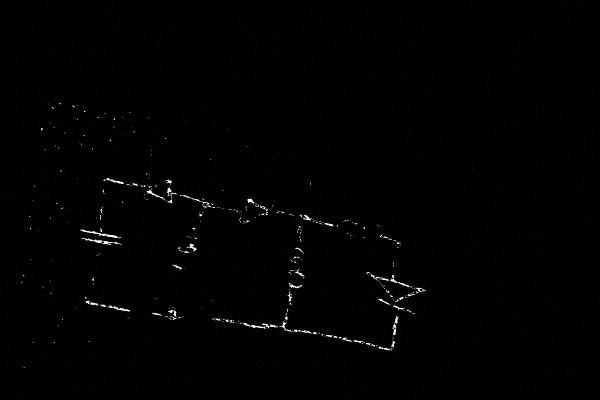capacitor: (74, 222, 126, 260)
diode: (357, 270, 429, 322)
